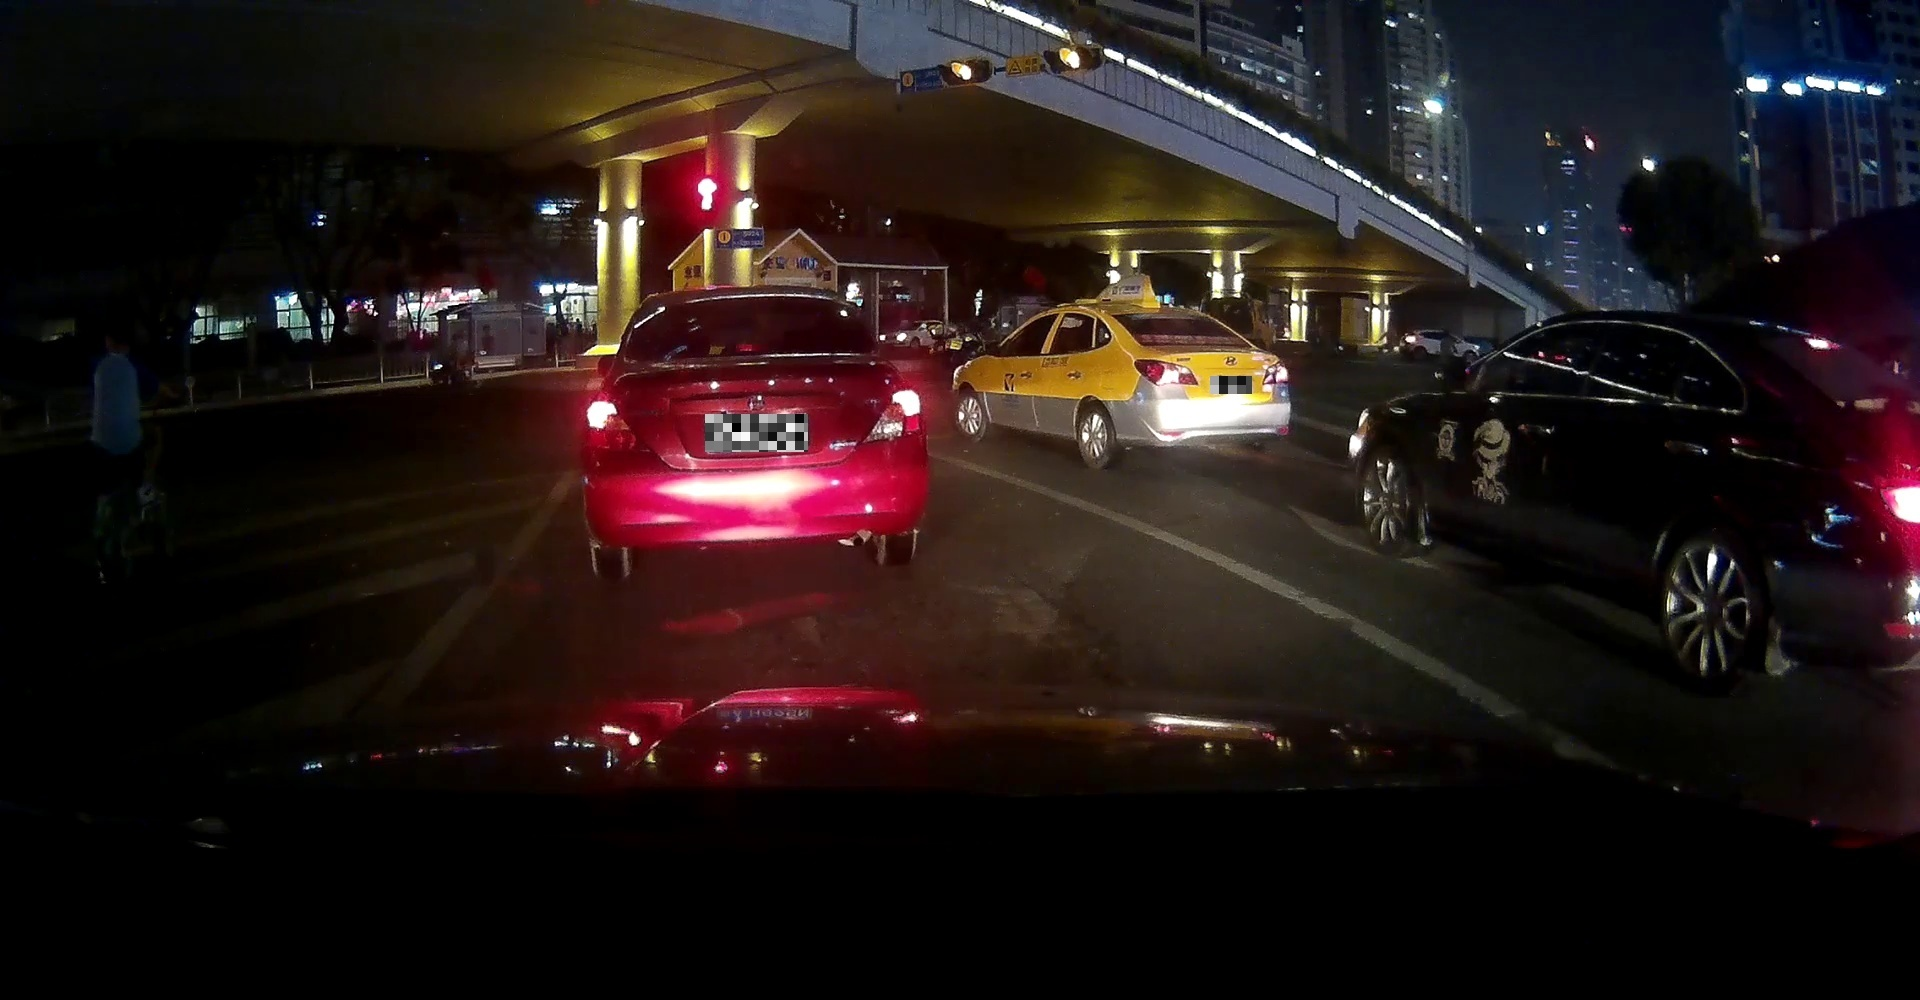L_light: (585, 391, 653, 454), (1131, 358, 1197, 386)
R_light: (860, 390, 923, 443), (1262, 359, 1289, 385)
T_light: (731, 341, 775, 352), (1192, 338, 1218, 345)
night-no: (582, 283, 930, 582), (1103, 301, 1291, 471)
plate_1: (705, 414, 808, 452)
plate_2: (1210, 376, 1252, 393)
